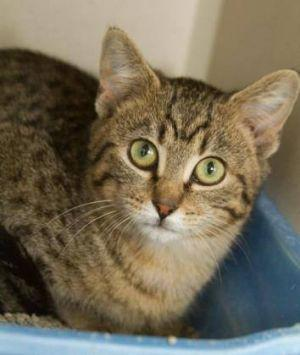bengal: (87, 5, 300, 256)
